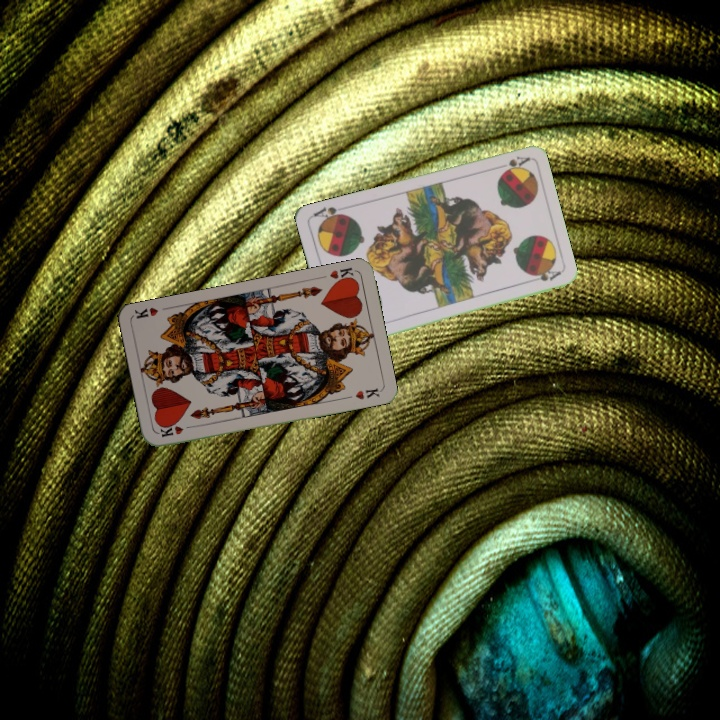HK: (156, 421, 196, 440), (326, 263, 358, 286)
SA: (492, 152, 532, 176)
